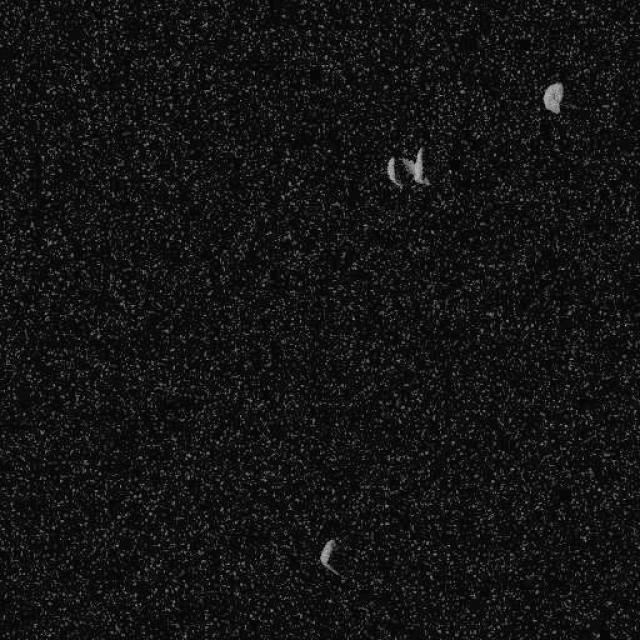D2: (385, 145, 431, 190), (318, 536, 340, 576), (541, 80, 564, 114)
